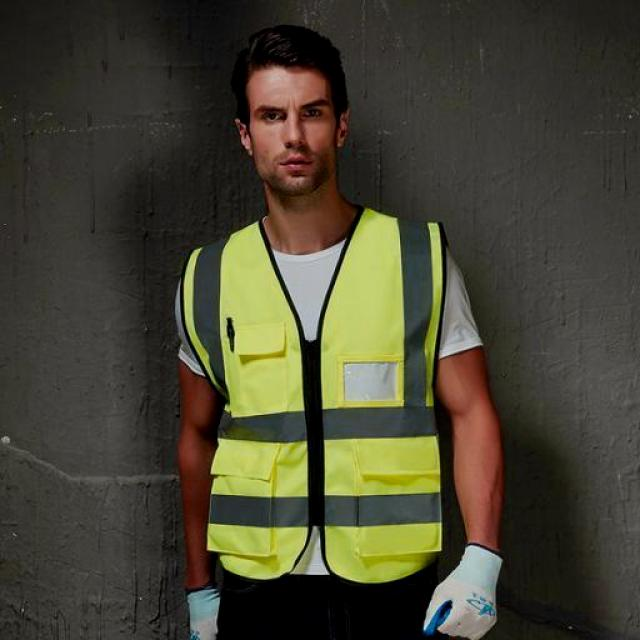face_nomask: (246, 88, 336, 190)
hand_glove: (420, 562, 498, 640)
head_nohelmet: (226, 19, 350, 82)
person: (160, 22, 512, 640)
vest: (178, 210, 454, 590)
